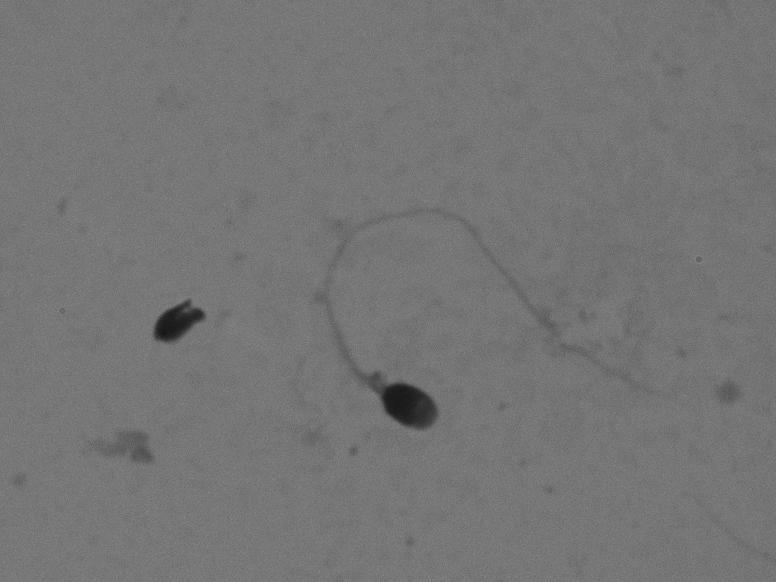Abnormal: (266, 193, 687, 442)
